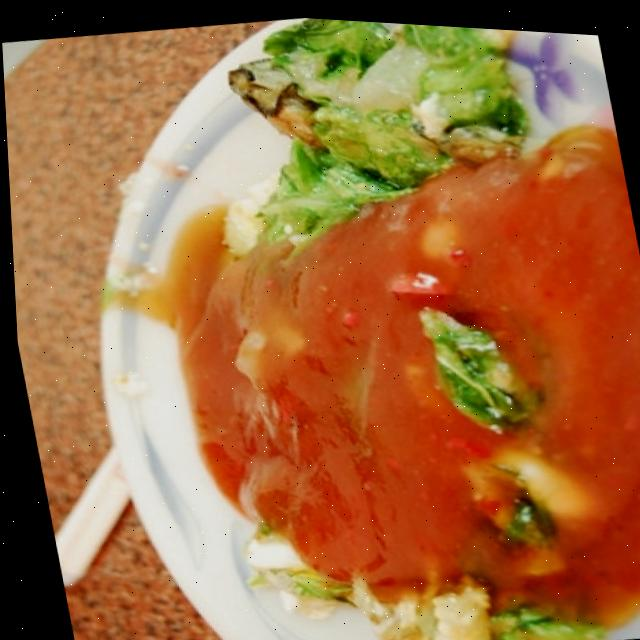熟制海鲜: (24, 1, 640, 640)
